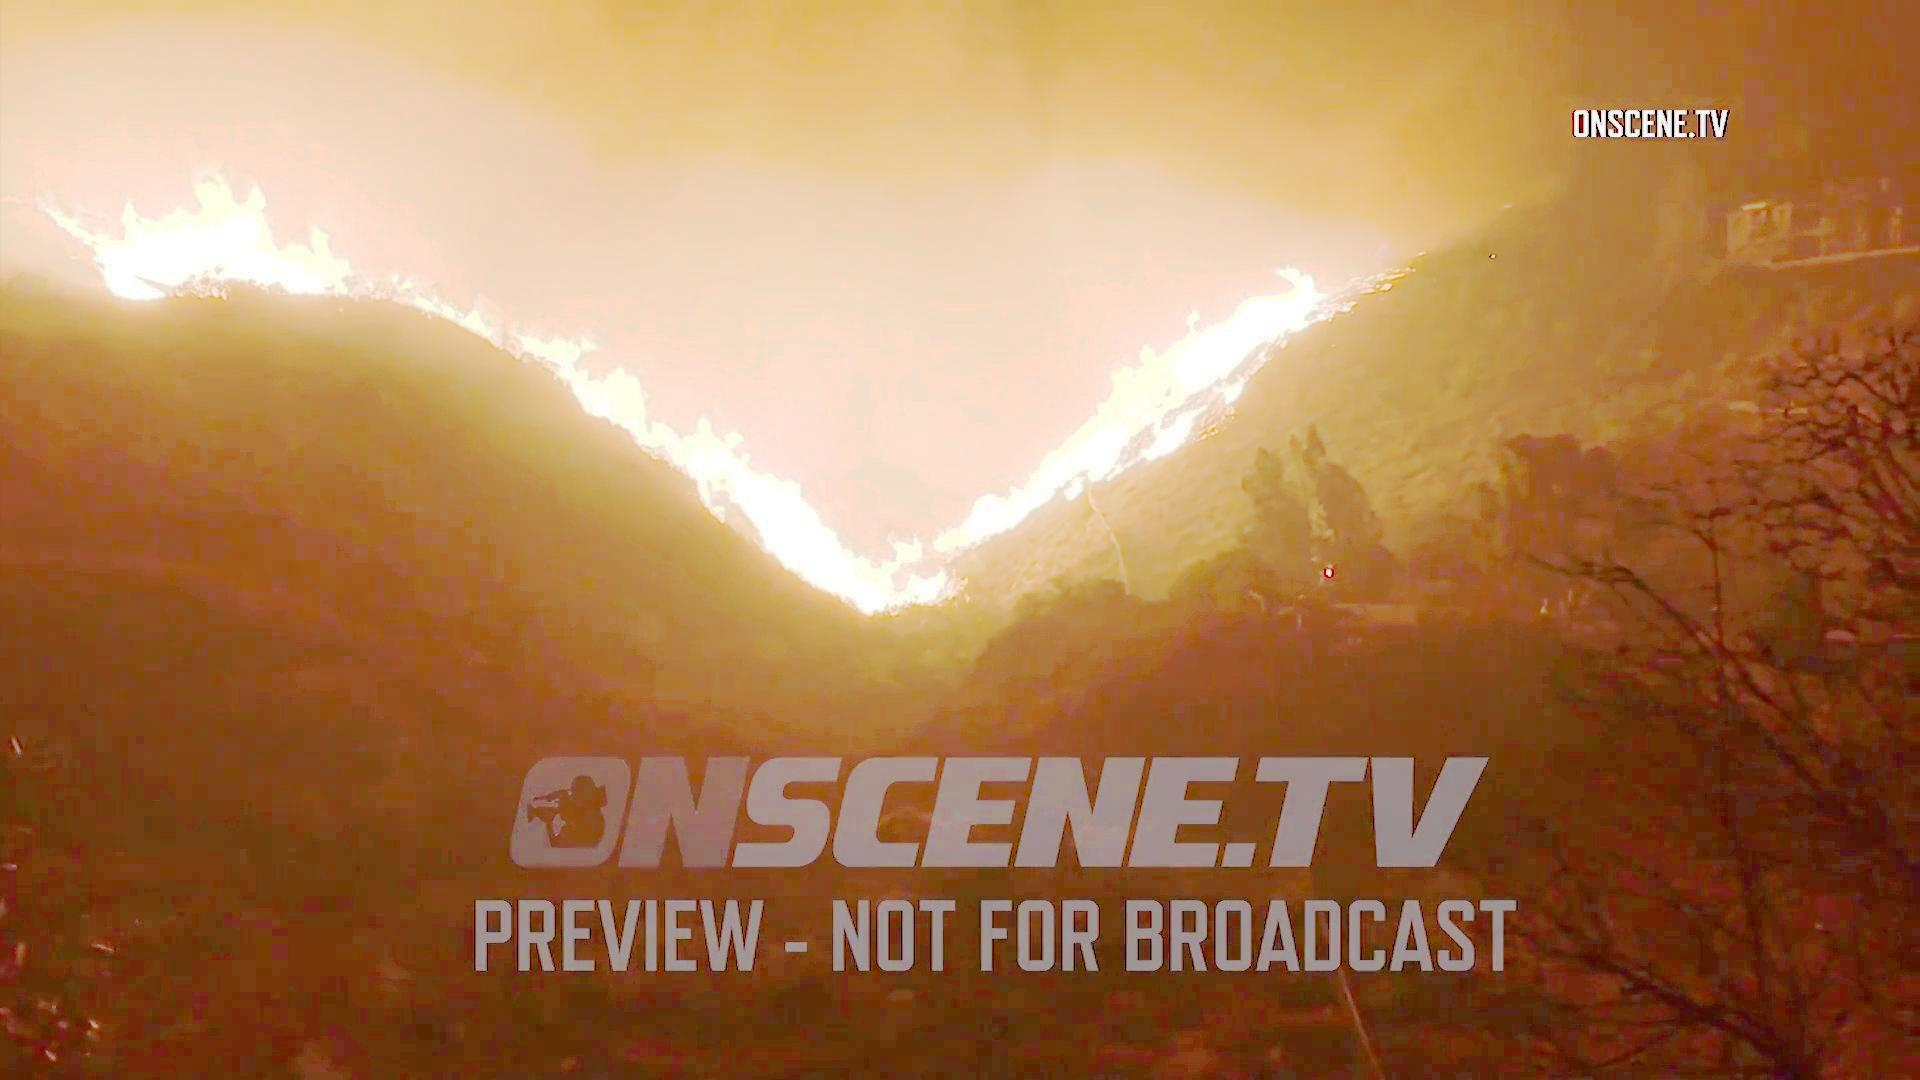fire: (36, 166, 353, 319), (691, 407, 934, 600), (1083, 261, 1325, 448)
